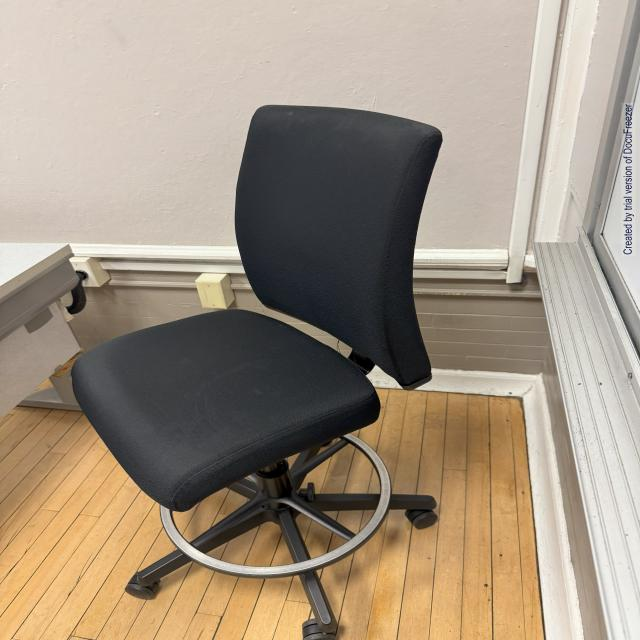chair: (73, 87, 458, 640)
